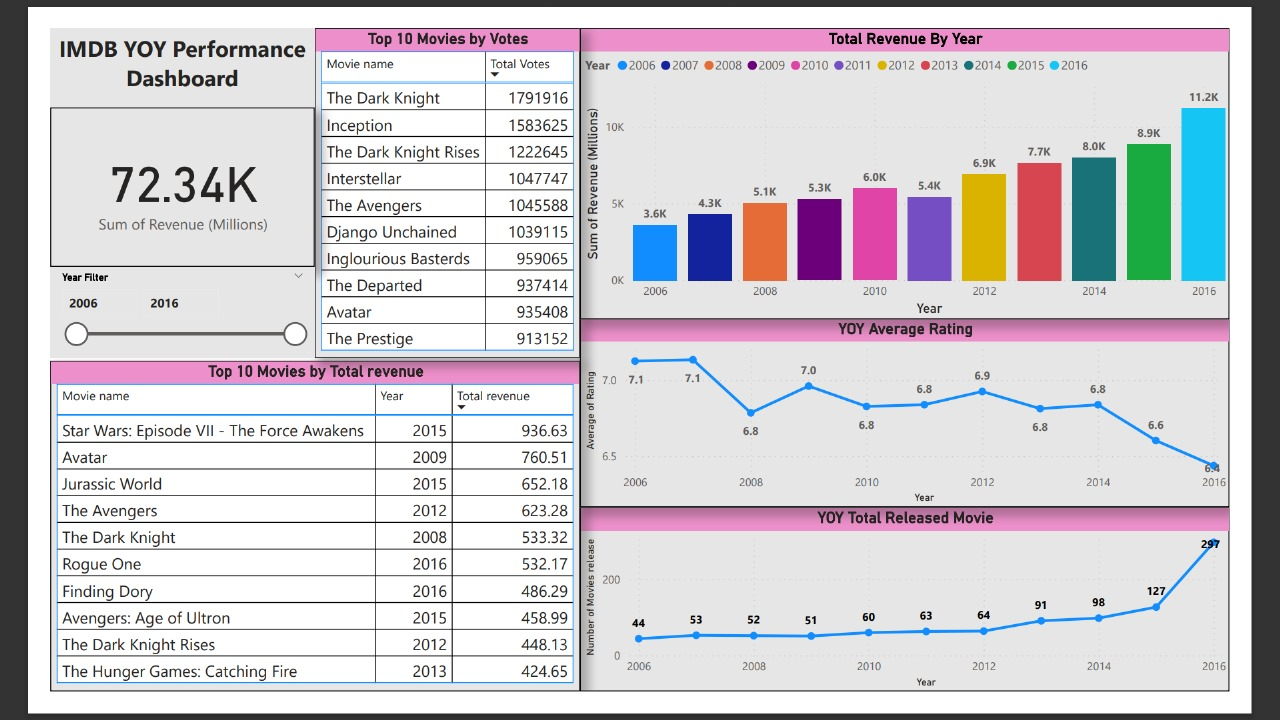

What the dashboard file says about the page in this screenshot:
{"tool":"powerbi","page":{"name":"Page 1","canvas":[1280,720],"ordinal":0},"visuals":[{"type":"lineChart","title":"YOY Total Released Movie","fields":{"Category":["IMDB-Movie-Data.Year"],"Y":["CountNonNull(IMDB-Movie-Data.Title)"]},"box":[574.5,519.5,705.3,200.5],"z":1000},{"type":"lineChart","title":"YOY Average Rating","fields":{"Category":["IMDB-Movie-Data.Year"],"Y":["Avg(IMDB-Movie-Data.Rating)"]},"box":[574.5,315.4,705.3,204.1],"z":3000},{"type":"columnChart","title":"Total Revenue By Year","fields":{"Category":["IMDB-Movie-Data.Year"],"Y":["Sum(IMDB-Movie-Data.Revenue (Millions))"],"Series":["IMDB-Movie-Data.Year"]},"box":[575,0,705.3,315.6],"z":4000},{"type":"tableEx","title":"Top 10 Movies by Total revenue","fields":{"Values":["IMDB-Movie-Data.Title","IMDB-Movie-Data.Year","Sum(IMDB-Movie-Data.Revenue (Millions))"]},"box":[0,360.6,574.5,359.4],"z":4001},{"type":"tableEx","title":"Top 10 Movies by Votes","fields":{"Values":["IMDB-Movie-Data.Title","Sum(IMDB-Movie-Data.Votes)"]},"box":[287.3,0,287.3,358.2],"z":4002},{"type":"card","fields":{"Values":["Sum(IMDB-Movie-Data.Revenue (Millions))"]},"box":[0,85.6,287.3,173.6],"z":4003},{"type":"textbox","box":[0,0,287.3,85.6],"z":4004},{"type":"slicer","fields":{"Values":["IMDB-Movie-Data.Year"]},"box":[0,259.2,287.3,99],"z":4005}]}

Visuals, with their boxes in screenshot pixels (x1, y1, x2, y2), scaled from the page's 1280x720 canvas onto the 1280x720 screenshot:
"YOY Total Released Movie" lineChart: left=574, top=520, right=1279, bottom=719
"YOY Average Rating" lineChart: left=574, top=315, right=1279, bottom=520
"Total Revenue By Year" columnChart: left=575, top=0, right=1279, bottom=316
"Top 10 Movies by Total revenue" tableEx: left=0, top=361, right=574, bottom=719
"Top 10 Movies by Votes" tableEx: left=287, top=0, right=575, bottom=358
card - Sum(IMDB-Movie-Data.Revenue (Millions)): left=0, top=86, right=287, bottom=259
textbox: left=0, top=0, right=287, bottom=86
slicer - IMDB-Movie-Data.Year: left=0, top=259, right=287, bottom=358
